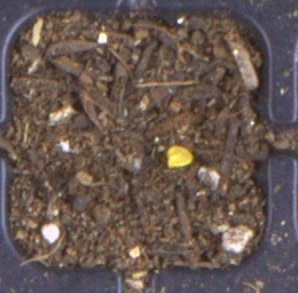chilli seed: (165, 144, 194, 169)
